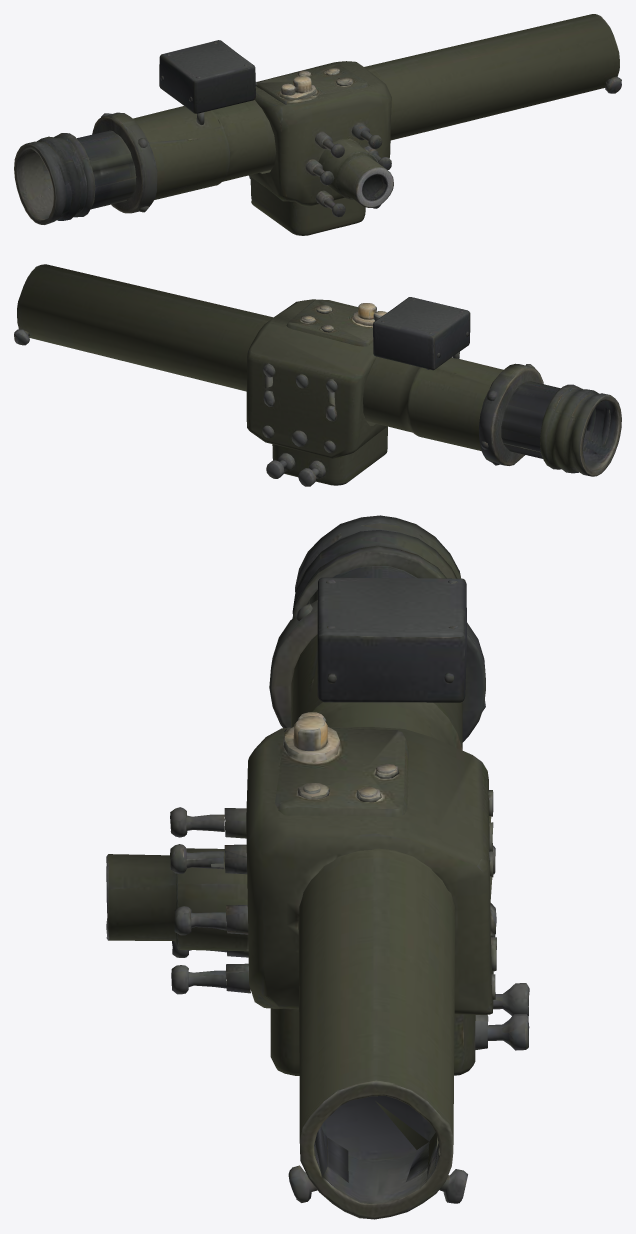
File: flamer.glb
The picture shows the model from 3 angles, top to bottom: view 1: azimuth 30°, elevation 25°; view 2: azimuth 150°, elevation 25°; view 3: azimuth 270°, elevation 25°; orthographic projection. The views are drawn at different scales.
Size of the model in its own units: 1 by 0.293 by 0.3245.
Materials: 1 (1 with a texture image).
